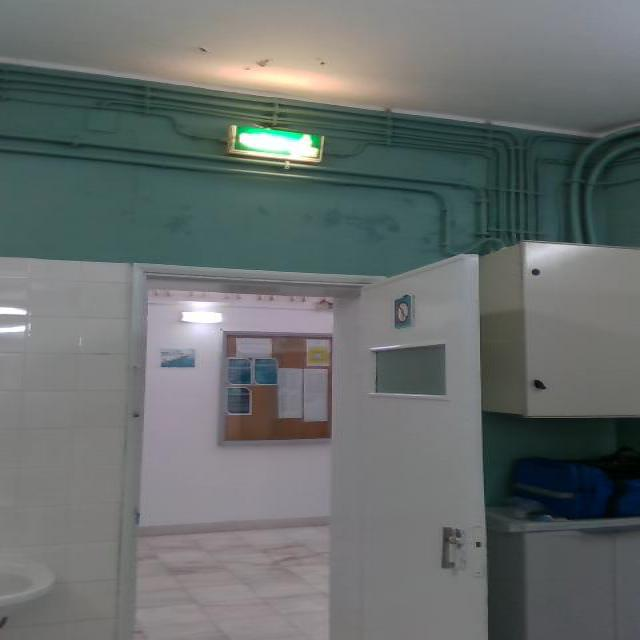open: (108, 245, 500, 639)
